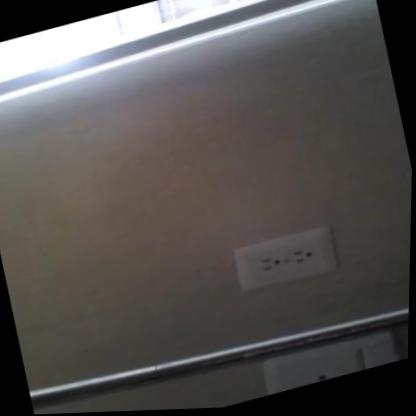OUTLET: (229, 224, 340, 295)
